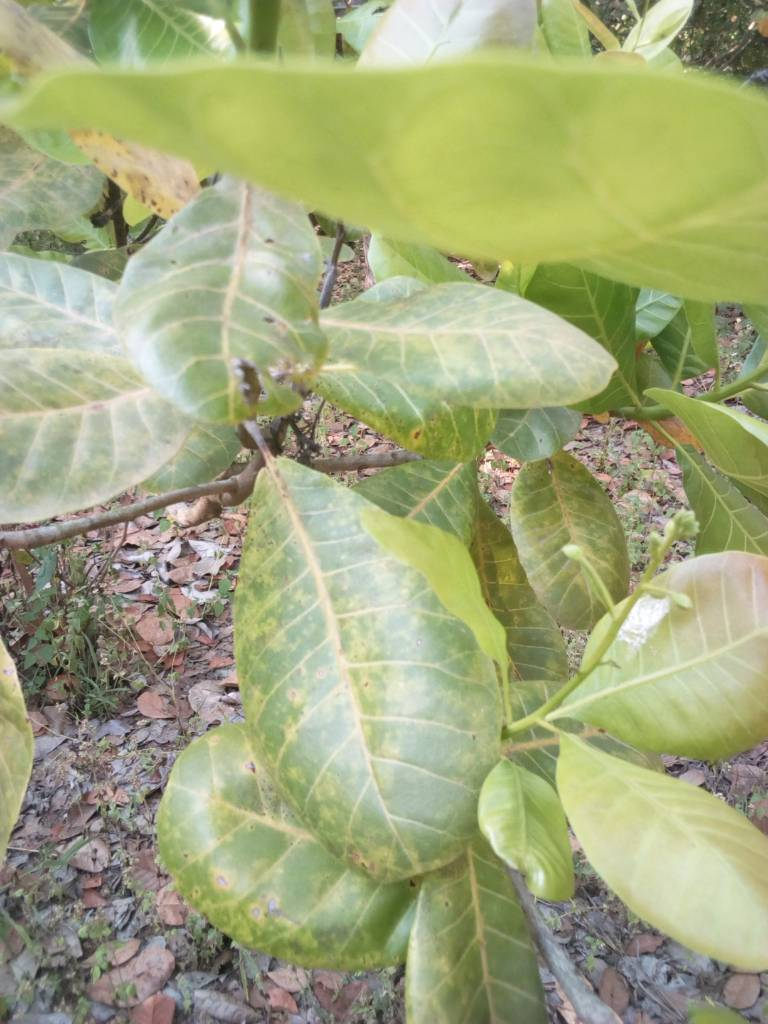Alternariose: (236, 460, 500, 880), (155, 708, 413, 966), (4, 241, 222, 527), (293, 277, 613, 410), (508, 450, 633, 627)
